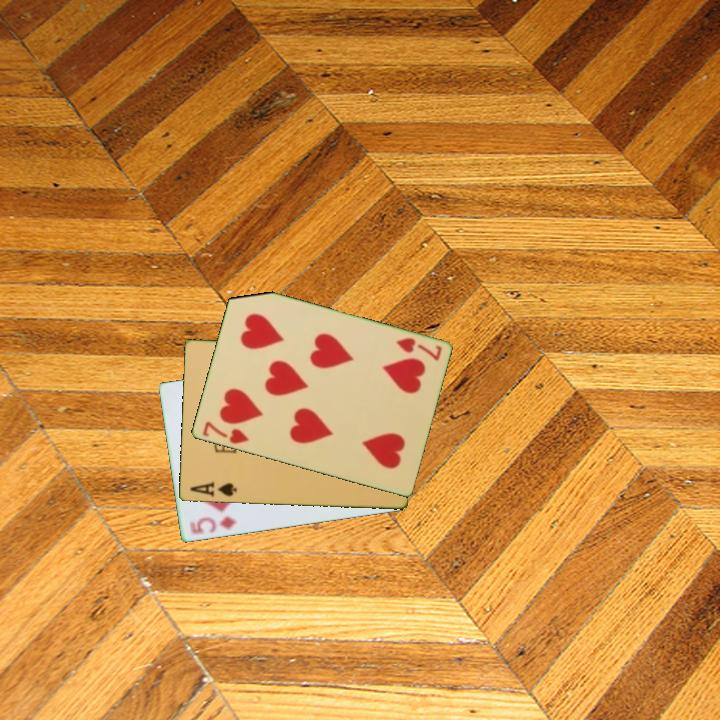5d: (185, 513, 240, 536)
7h: (392, 334, 444, 364), (199, 418, 251, 447)
As: (186, 478, 239, 500)
